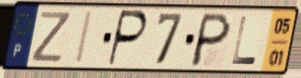7: (154, 11, 187, 68)
I: (73, 9, 96, 66)
L: (230, 14, 259, 66)
P: (187, 11, 234, 69), (105, 8, 149, 68)
Z: (29, 10, 74, 65)
